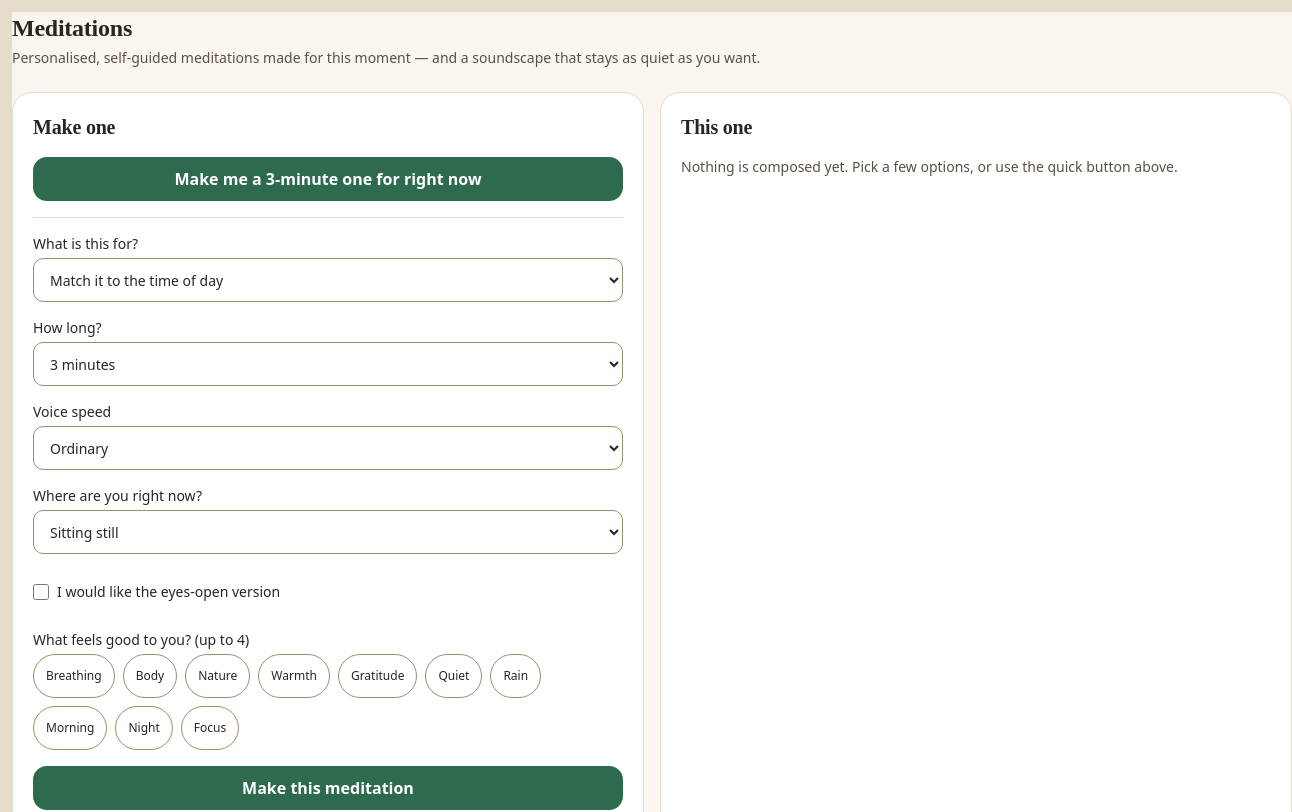
Test: MeditationView › never offers closed eyes while driving or walking
Click the checkbox labelled "I would like the eyes-open version" at (41, 592), box [33,584,49,600]
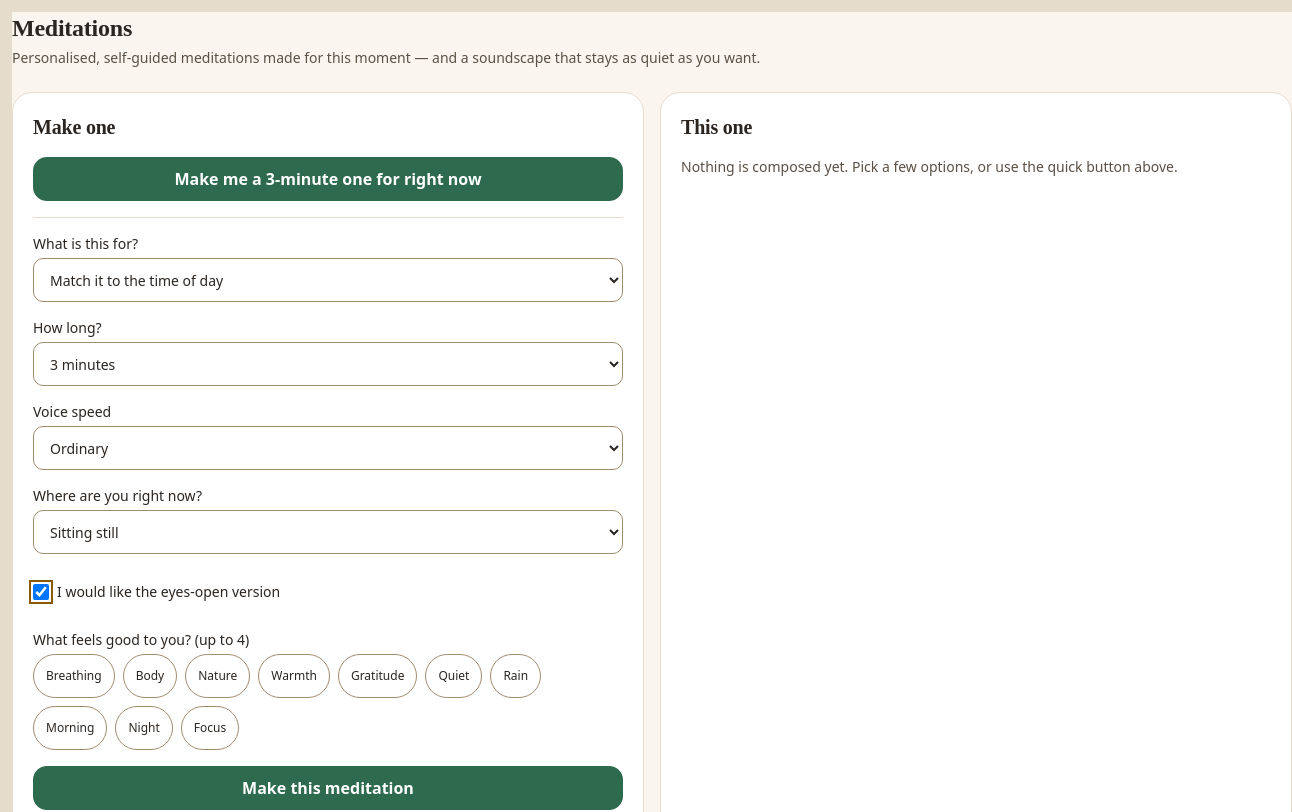
Expected: the checkbox labelled "I would like the eyes-open version" is checked, [33,584,49,600]
Select "Driving" in the dropdown labelled "Where are you right now?" at (328, 532), box [33,510,623,554]
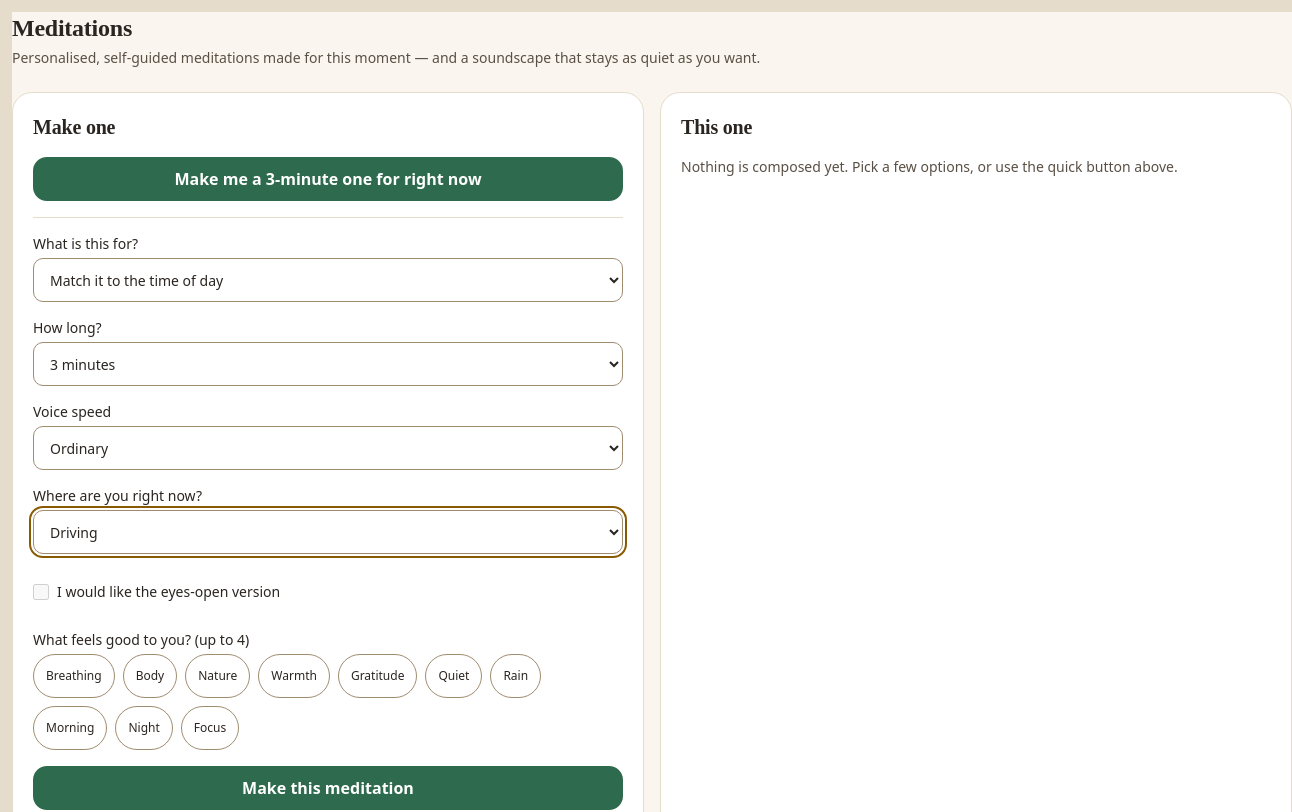
Expected: the checkbox labelled "I would like the eyes-open version" is not checked, [33,584,49,600]
Expected: the checkbox labelled "I would like the eyes-open version" is disabled, [33,584,49,600]
